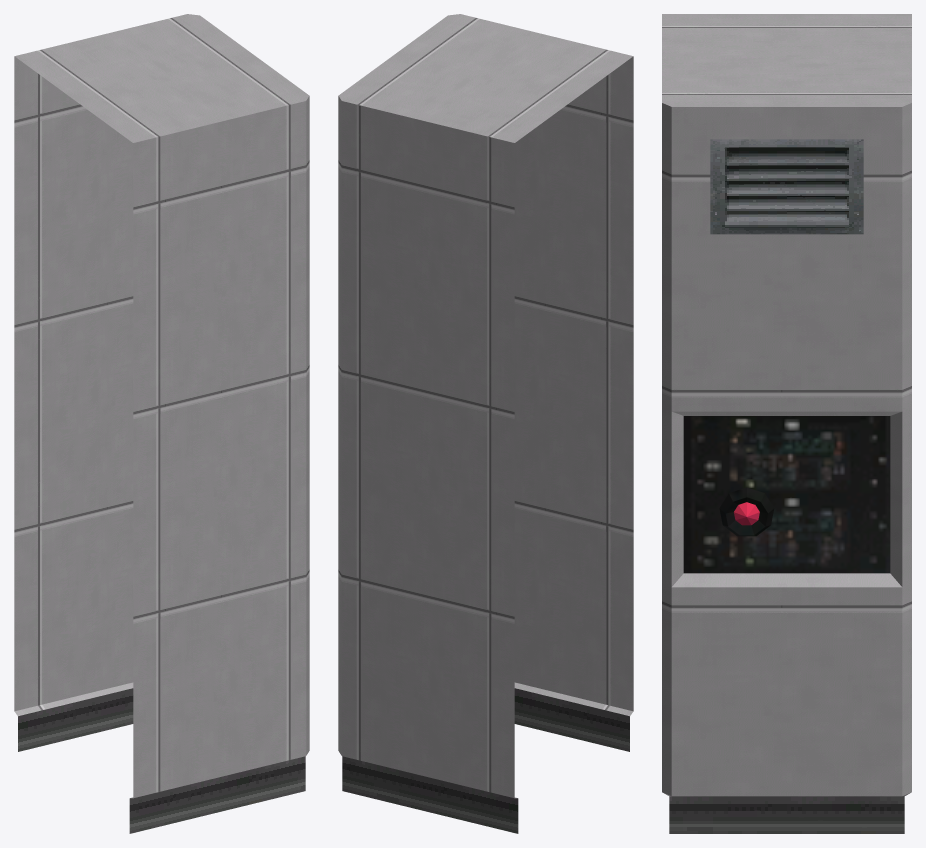
File: a51_halbox_.obj
3 views of the same model, side by side, from view 1: azimuth 30°, elevation 25°; view 2: azimuth 150°, elevation 25°; view 3: azimuth 270°, elevation 25° (orthographic). The views are drawn at different scales.
Visible parts, largest first — view 1: a51_halbox_; view 2: a51_halbox_; view 3: a51_halbox_.
Part boxes in pixels (bbox=[...]): a51_halbox_: bbox=[14, 14, 309, 833]; a51_halbox_: bbox=[338, 14, 633, 833]; a51_halbox_: bbox=[662, 14, 911, 833].
Bounding box in the file's own units: 0.9259 × 3.39 × 1.05.
